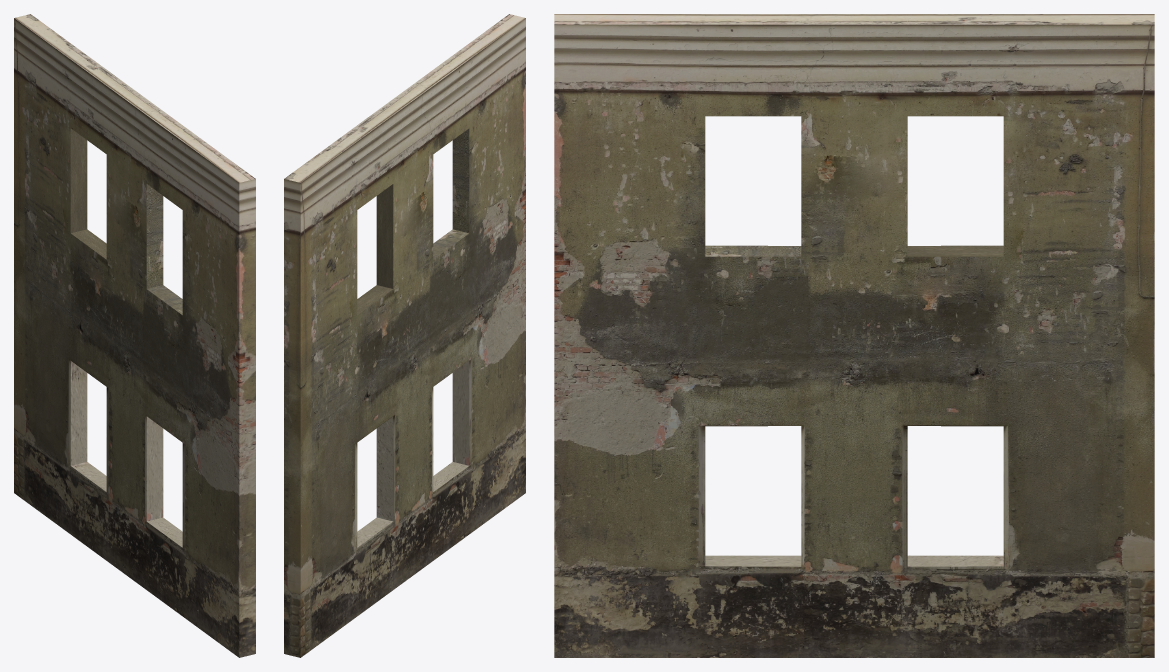
The model's file is wall2.fbx.
3 views of the same model, side by side, from view 1: azimuth 30°, elevation 25°; view 2: azimuth 150°, elevation 25°; view 3: azimuth 270°, elevation 25° (orthographic). The views are drawn at different scales.
Visible parts, largest first — view 1: Cube.002; view 2: Cube.002; view 3: Cube.002.
Part boxes in pixels (left/top/right/bottom): Cube.002: left=14, top=14, right=255, bottom=657; Cube.002: left=284, top=14, right=525, bottom=657; Cube.002: left=554, top=14, right=1154, bottom=657.
Bounding box in the file's own units: 18.34 × 501 × 430.
1 material, 1 textured.
